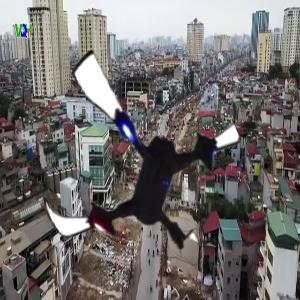drone: (22, 42, 253, 273)
